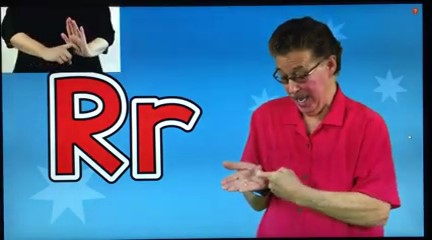R: (213, 150, 318, 216)
